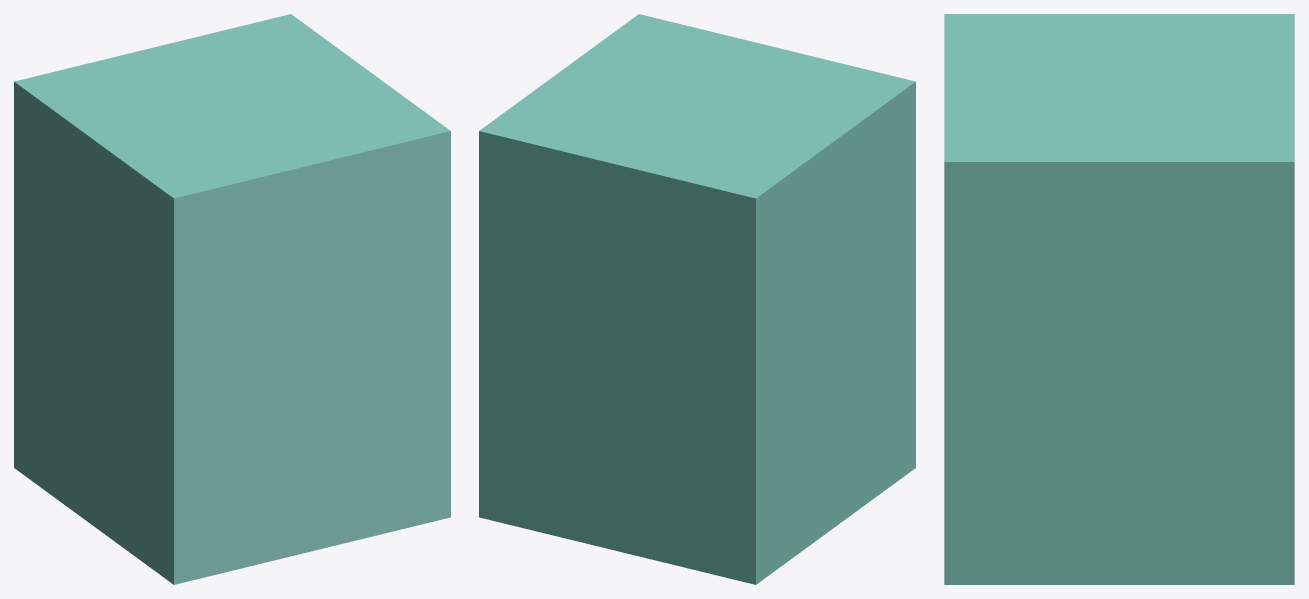
The model's file is squidgame_props_platform5_blue.fbx.
3 views of the same model, side by side, from view 1: azimuth 30°, elevation 25°; view 2: azimuth 150°, elevation 25°; view 3: azimuth 270°, elevation 25° (orthographic). The views are drawn at different scales.
Visible parts, largest first — view 1: squidgame_props_platform5_blue; view 2: squidgame_props_platform5_blue; view 3: squidgame_props_platform5_blue.
Part boxes in pixels (<box>): squidgame_props_platform5_blue: <box>14,14,450,584</box>; squidgame_props_platform5_blue: <box>479,14,915,584</box>; squidgame_props_platform5_blue: <box>944,14,1294,584</box>.
Bounding box in the file's own units: 0.75 × 1 × 0.75.
